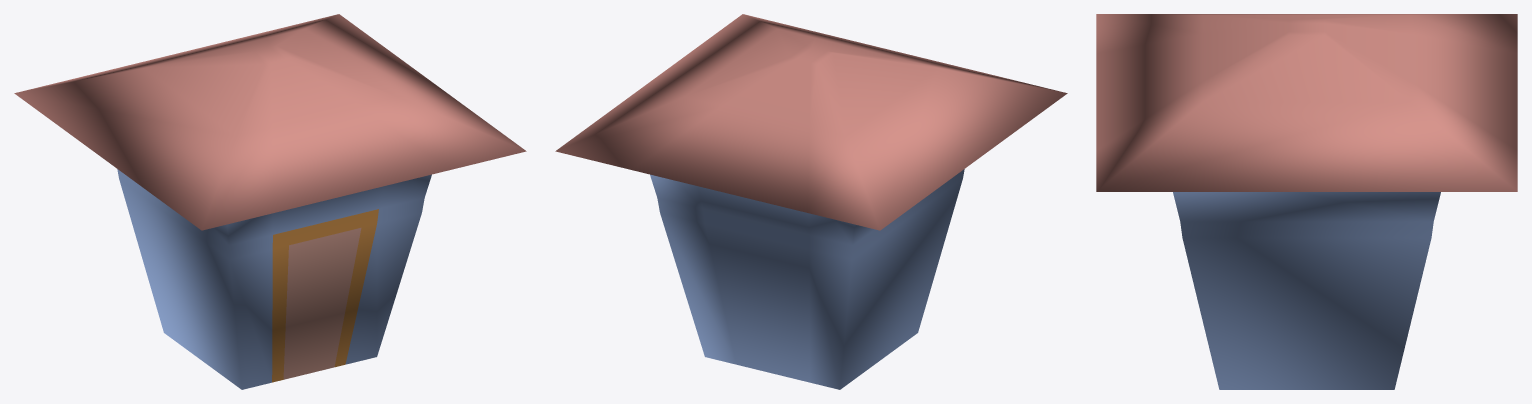
Rendered from House2.fbx.
3 renders of one model, left to right at view 1: azimuth 30°, elevation 25°; view 2: azimuth 150°, elevation 25°; view 3: azimuth 270°, elevation 25°, orthographic. The views are drawn at different scales.
Parts seen in each view (by area): view 1: Cube; view 2: Cube; view 3: Cube.
Boxes of the visible parts, x1,y1,x2,y2 form: Cube: (14, 14, 526, 389); Cube: (555, 14, 1067, 389); Cube: (1096, 14, 1517, 389).
Bounding box in the file's own units: 421 × 359 × 421.
